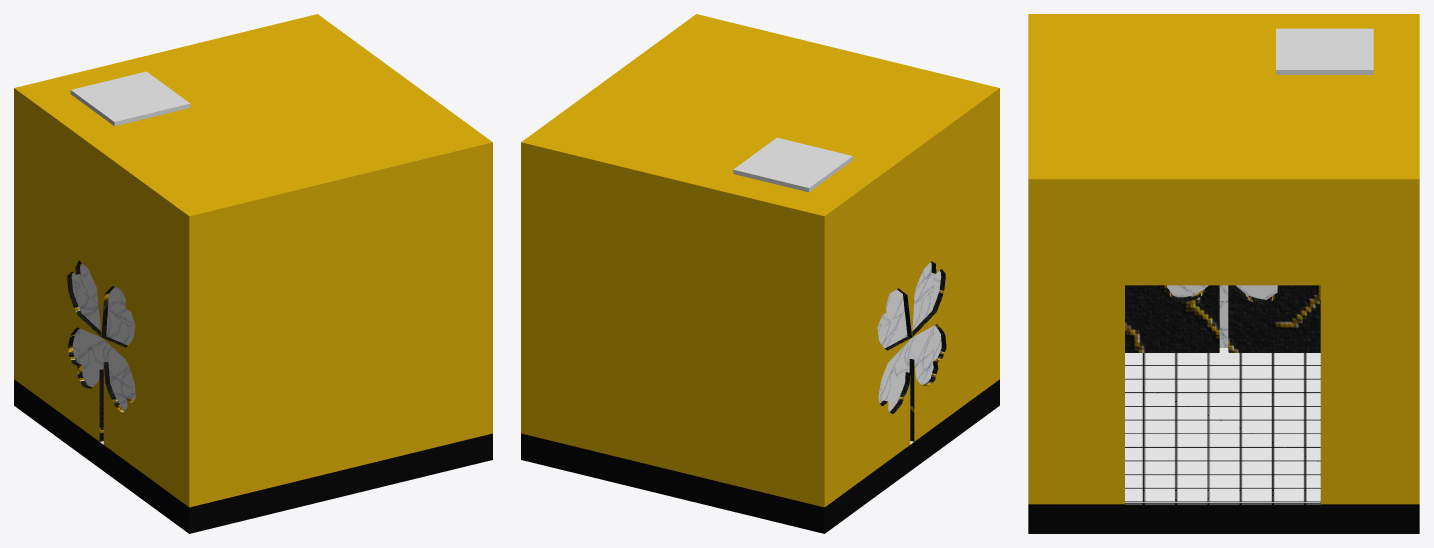
Rendered from Elevator - Casino.glb.
The picture shows the model from 3 angles, left to right: view 1: azimuth 30°, elevation 25°; view 2: azimuth 150°, elevation 25°; view 3: azimuth 270°, elevation 25°; orthographic projection. The views are drawn at different scales.
Parts seen in each view (by area): view 1: Wall.001, Roof, Wall.002, Floor, Wall, Back Wall 2, Access Handle; view 2: Wall.003, Roof, Wall.002, Floor, Wall, Back Wall 2, Access Handle; view 3: Wall, Roof, Floor, Wall.002, Access Handle, Back Wall 2.
Boxes of the visible parts, left/top/right/bottom form: Wall.001: left=214, top=175, right=467, bottom=500; Roof: left=14, top=14, right=492, bottom=242; Wall.002: left=14, top=114, right=214, bottom=507; Floor: left=14, top=379, right=492, bottom=533; Wall: left=467, top=169, right=492, bottom=439; Back Wall 2: left=71, top=263, right=135, bottom=410; Access Handle: left=70, top=71, right=190, bottom=126; Wall.003: left=546, top=175, right=799, bottom=500; Roof: left=521, top=14, right=999, bottom=242; Wall.002: left=799, top=114, right=999, bottom=507; Floor: left=521, top=379, right=999, bottom=533; Wall: left=521, top=169, right=546, bottom=439; Back Wall 2: left=877, top=262, right=941, bottom=411; Access Handle: left=733, top=137, right=852, bottom=192; Wall: left=1028, top=209, right=1419, bottom=504; Roof: left=1028, top=14, right=1419, bottom=208; Floor: left=1028, top=348, right=1419, bottom=533; Wall.002: left=1125, top=285, right=1320, bottom=352; Access Handle: left=1276, top=28, right=1373, bottom=74; Back Wall 2: left=1167, top=285, right=1277, bottom=347.
Bounding box in the file's own units: 3.66 × 3.71 × 3.66.
Materials: 21 (3 with a texture image).
